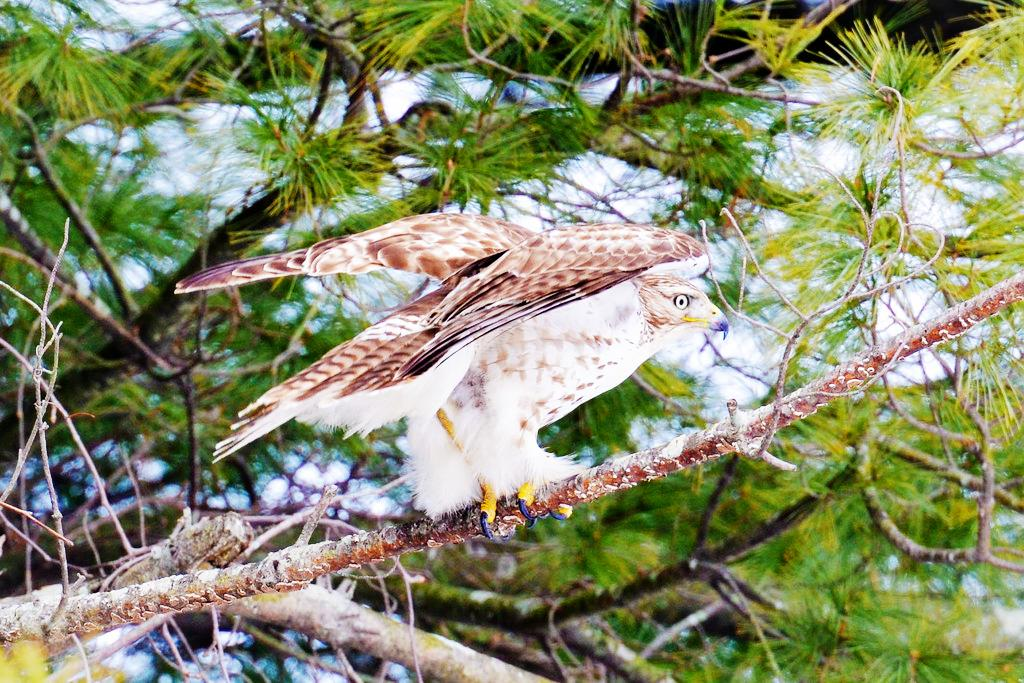Owl: (170, 205, 730, 543)
